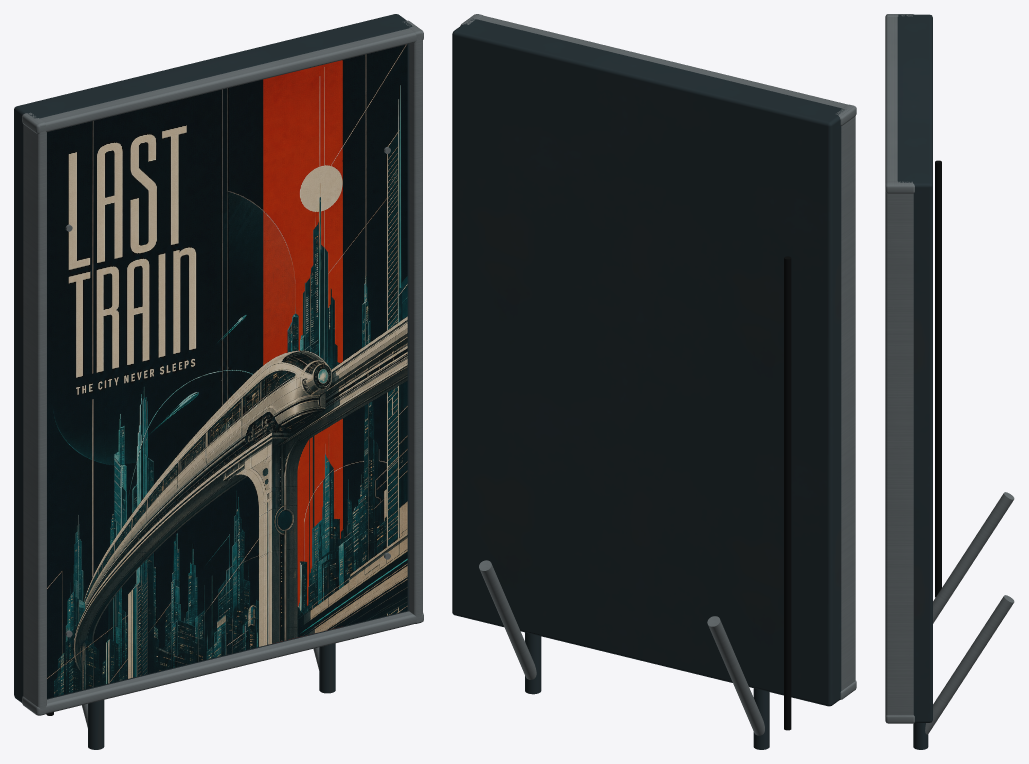
The model's file is NC_Sign_transit_LOD0.fbx.
3 views of the same model, side by side, from view 1: azimuth 30°, elevation 25°; view 2: azimuth 150°, elevation 25°; view 3: azimuth 270°, elevation 25° (orthographic). The views are drawn at different scales.
Parts seen in each view (by area): view 1: NC_Sign_transit_LOD0; view 2: NC_Sign_transit_LOD0; view 3: NC_Sign_transit_LOD0.
Boxes of the visible parts, <box> form: NC_Sign_transit_LOD0: <box>14,14,423,749</box>; NC_Sign_transit_LOD0: <box>452,14,856,749</box>; NC_Sign_transit_LOD0: <box>885,14,1014,749</box>.
Bounding box in the file's own units: 300 × 484 × 94.87.
